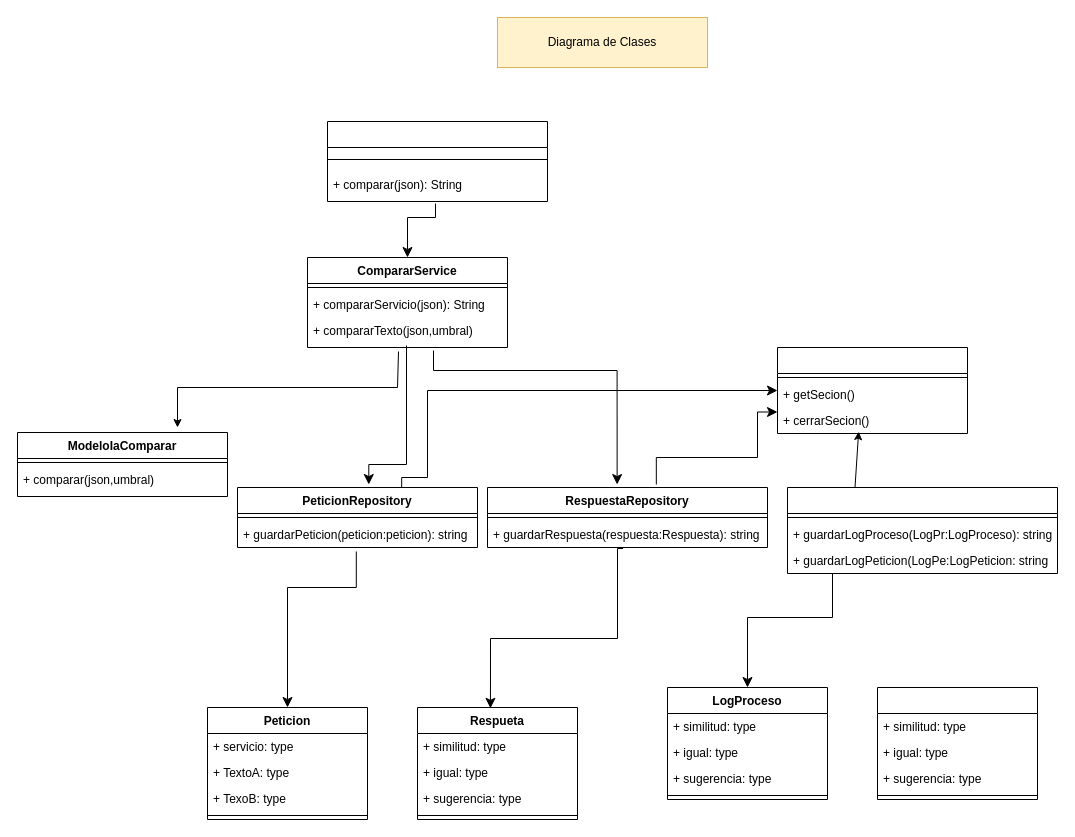
This 1075x837 diagram has some shape labels left out. The shapes that lost their labels are listed below. From the top down, each one's box as (x1, y1, x2, y2) in pixels, then its label:
(326, 120, 548, 202): CompararController(endpoint)
(776, 346, 968, 434): Conexion
(786, 486, 1058, 574): LogRepository
(876, 686, 1038, 800): LogPeticionRespuesta
